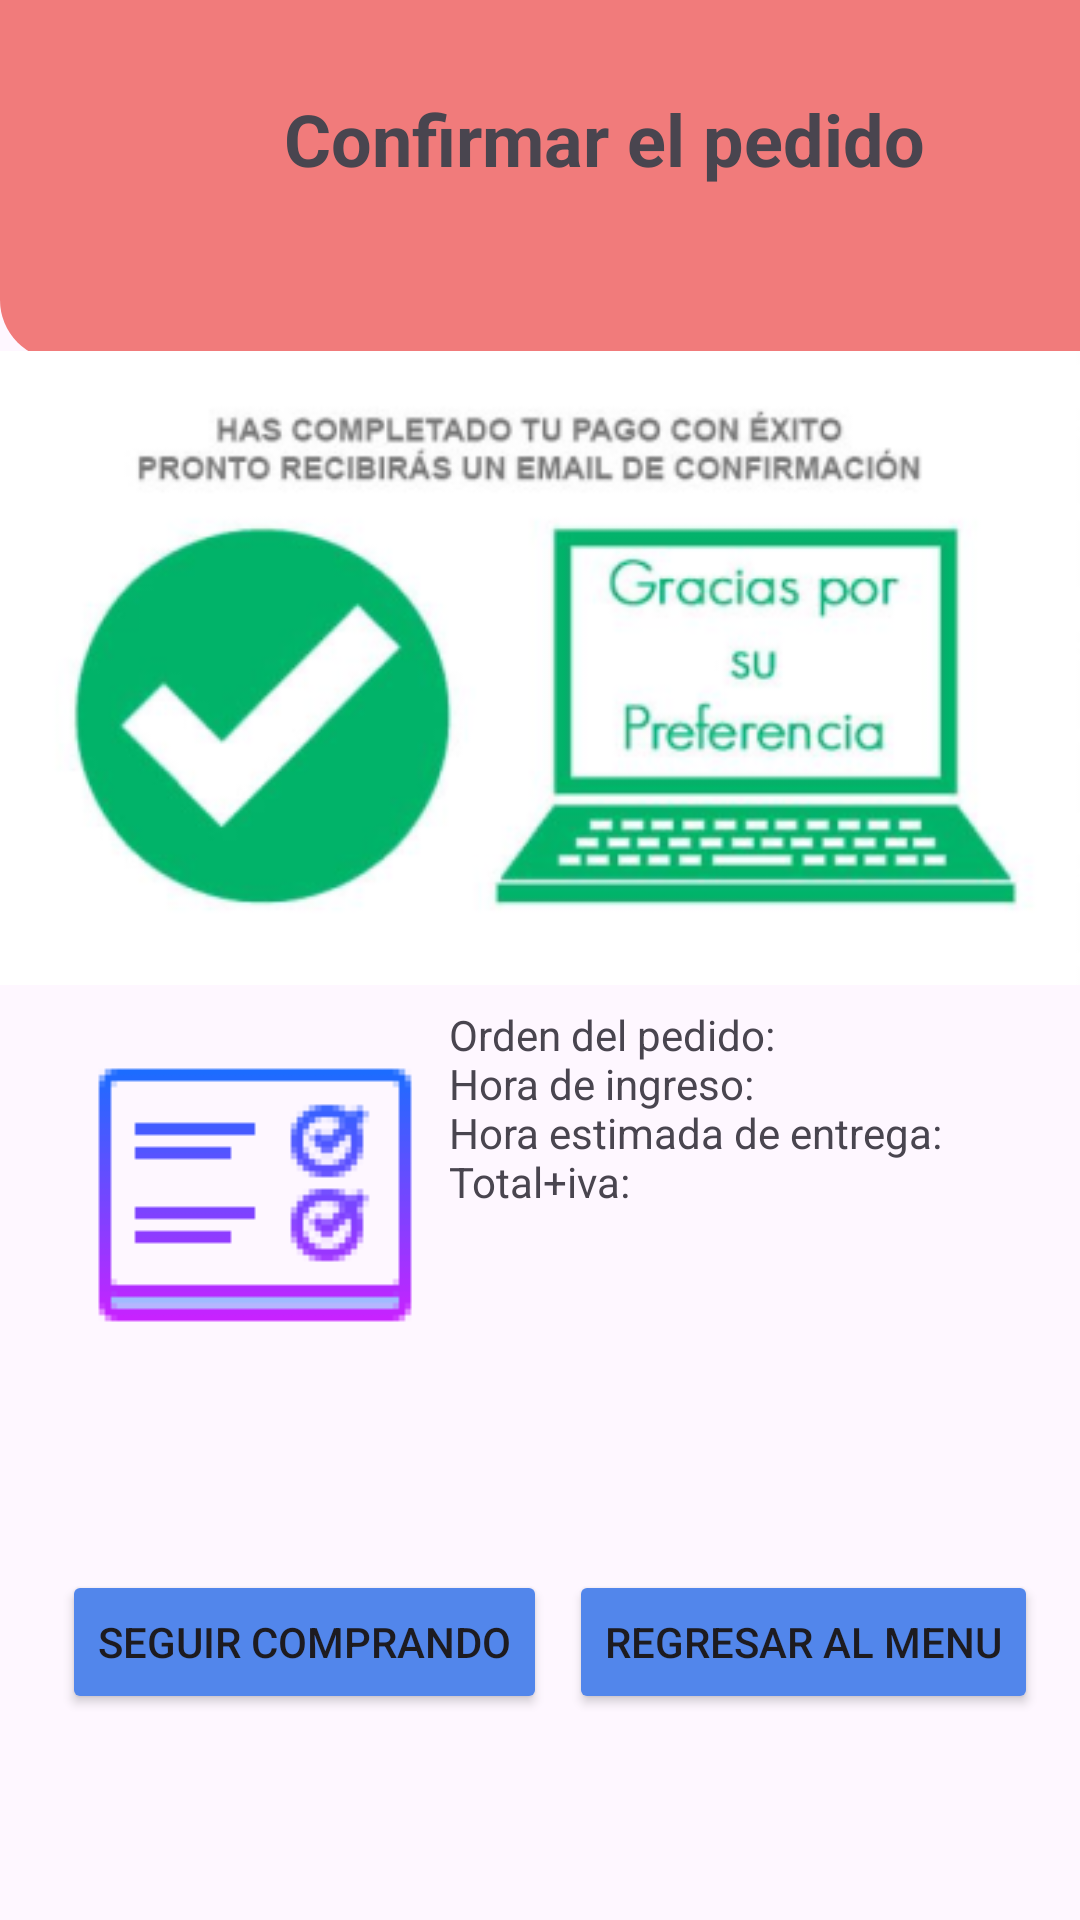

Icons on this 1080 × 1920 Android screen, each with its box as [x1,y1,x2,y2]:
tablon: [98,1068,412,1322]
